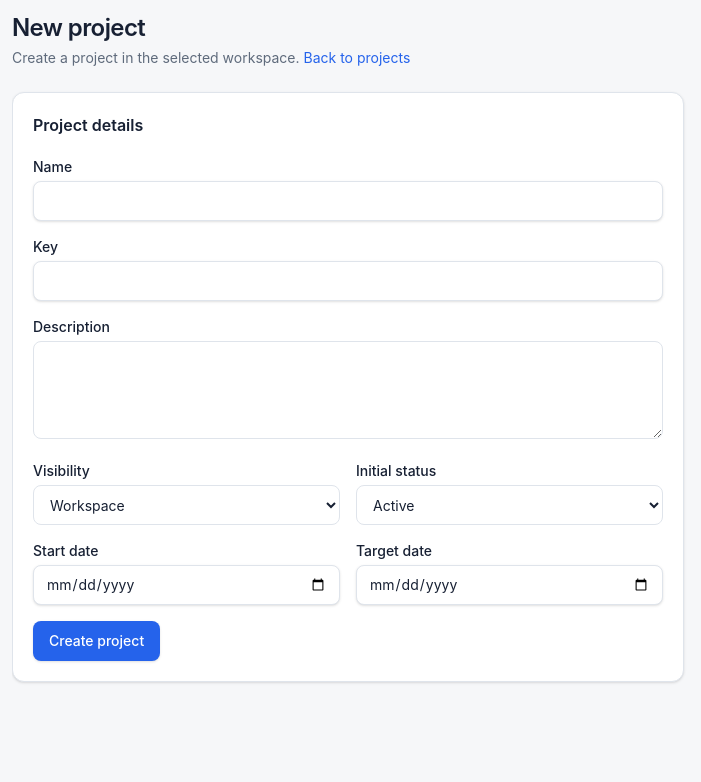
Test: project create page › renders field-level validation errors returned by the API
Type "Alpha Project" into the field labelled "Name" at (348, 201), box [33,181,663,221]
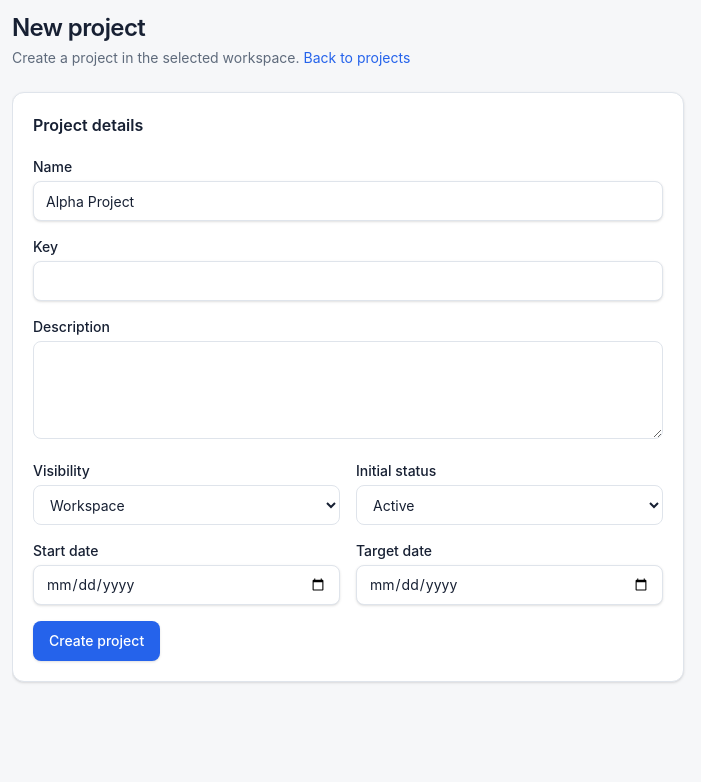
Type "ALPHA" into the field labelled "Key" at (348, 281), box [33,261,663,301]
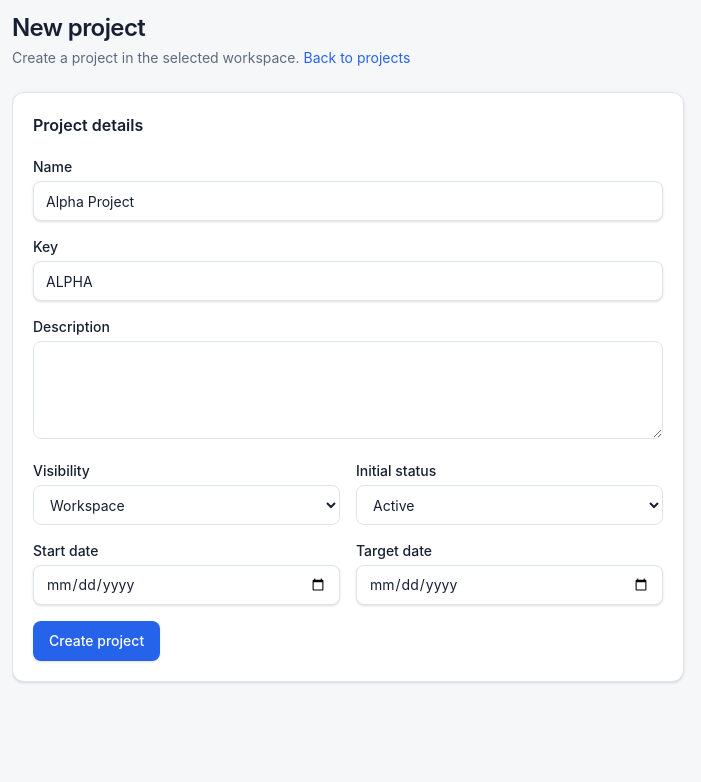
Click the button "Create project" at (97, 641), box [33,621,160,661]
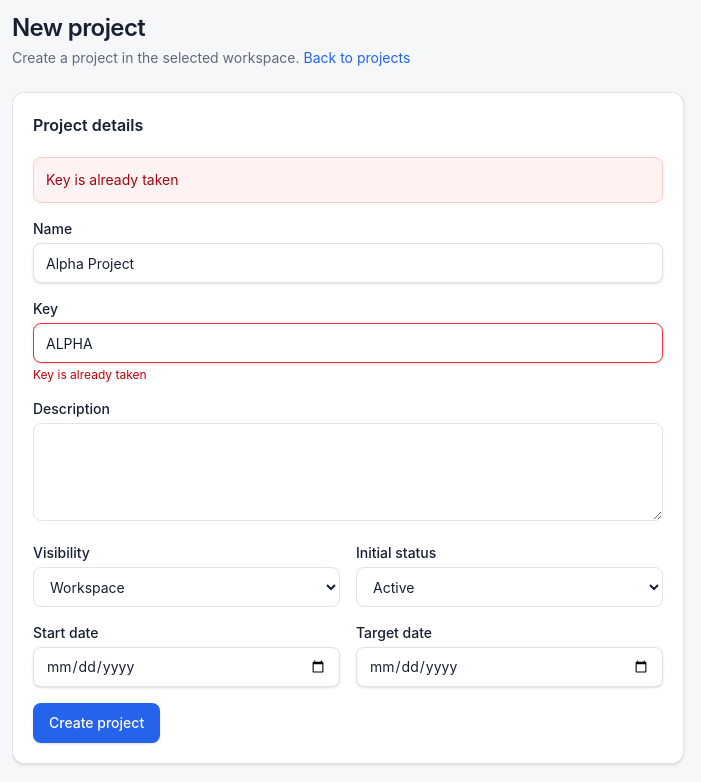
Expected: the text "Key is already taken" is shown, [33,157,663,203]
